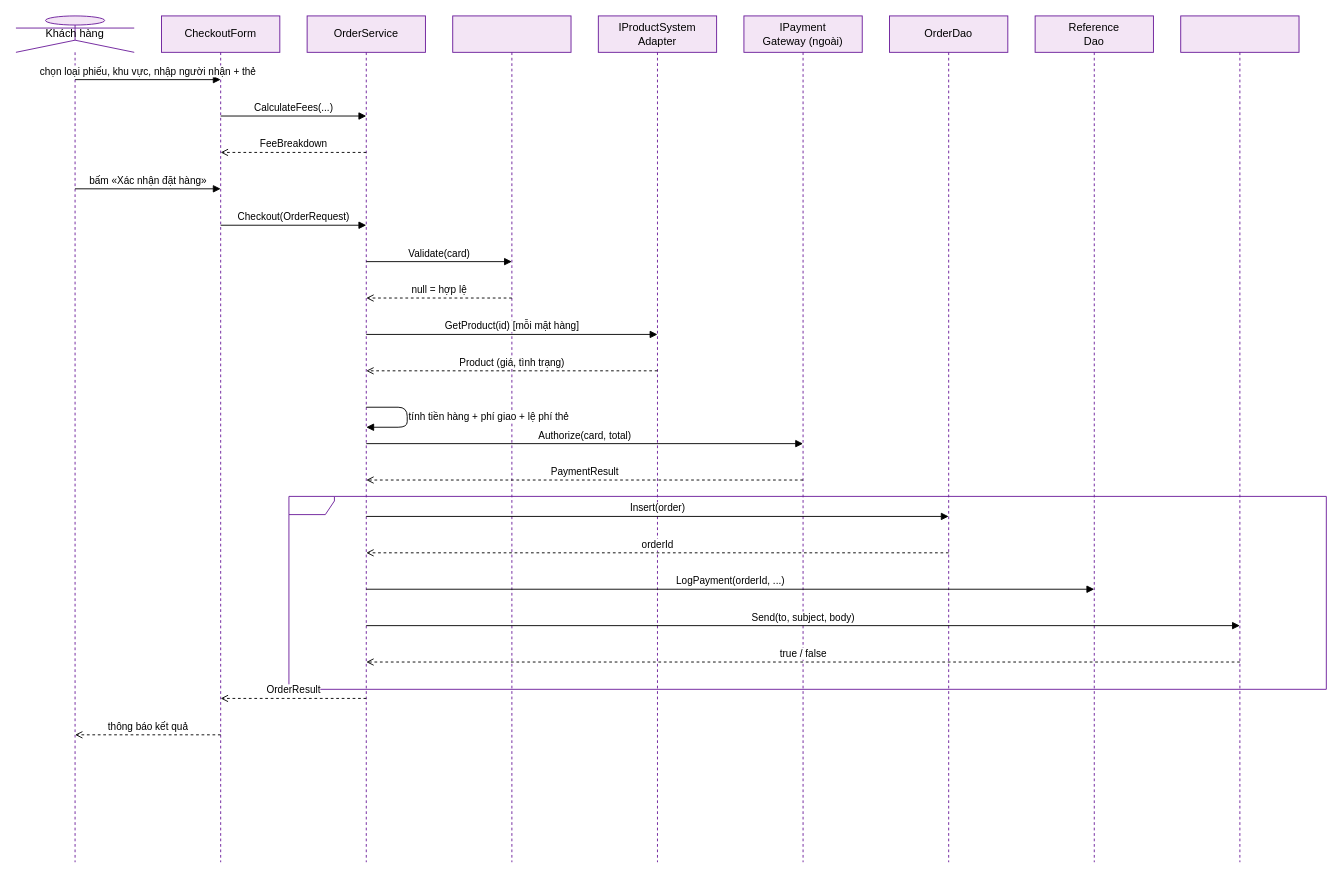
Image size: 1342x878. Some labels were removed from this diagram. The box of each missing label's shape, as (x1, y1, x2, y2) in pixels:
alt [thanh toán được chấp nhận]: (288, 495, 1326, 689)
CardValidator: (452, 15, 571, 862)
IEmailService (ngoài): (1180, 15, 1299, 862)
